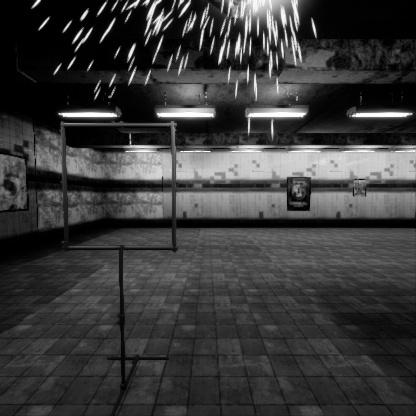gate: (60, 164, 187, 293)
